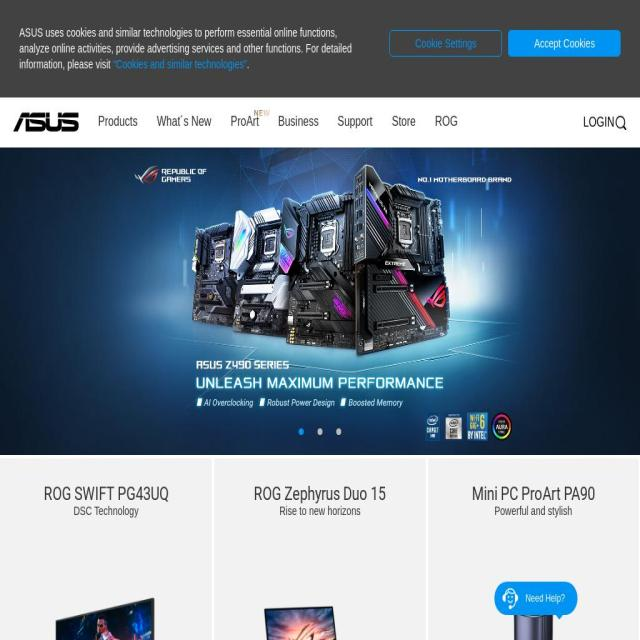button: (0, 147, 640, 455), (0, 457, 212, 640), (214, 457, 425, 640), (427, 457, 638, 640), (508, 30, 621, 57), (390, 30, 502, 57), (157, 97, 212, 145), (278, 97, 319, 145), (98, 97, 138, 145), (112, 57, 247, 71), (500, 585, 565, 611), (338, 97, 373, 145), (583, 98, 615, 148), (230, 97, 260, 145), (392, 97, 416, 145), (435, 97, 458, 145), (298, 427, 304, 435), (336, 427, 342, 435), (318, 427, 322, 435)
heading: (9, 503, 203, 519), (224, 503, 416, 519), (437, 503, 629, 519)
image: (0, 147, 640, 455), (252, 590, 388, 640), (465, 590, 601, 640), (38, 591, 174, 640), (12, 112, 80, 132), (500, 585, 519, 611)
link: (525, 592, 565, 604)
text: (19, 26, 352, 71), (9, 482, 203, 503), (224, 482, 416, 503), (437, 482, 629, 503), (583, 115, 615, 129), (230, 114, 258, 128), (254, 109, 270, 117), (247, 57, 250, 71)
